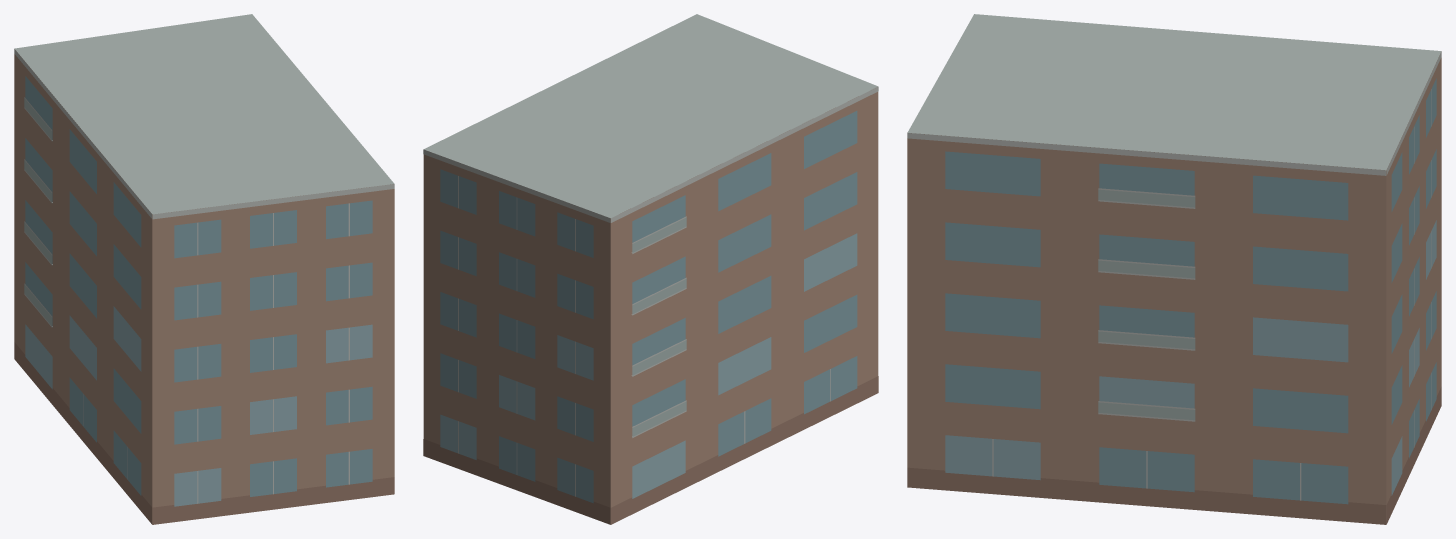
The model's file is survey-upis-32869218.glb.
The picture shows the model from 3 angles, left to right: view 1: azimuth 30°, elevation 25°; view 2: azimuth 150°, elevation 25°; view 3: azimuth 270°, elevation 25°; orthographic projection. The views are drawn at different scales.
Visible parts, largest first — view 1: survey-upis-32869218.tmp; view 2: survey-upis-32869218.tmp; view 3: survey-upis-32869218.tmp.
Part boxes in pixels (x1,y1,x2,y2): survey-upis-32869218.tmp: (14, 14, 394, 524); survey-upis-32869218.tmp: (423, 14, 878, 524); survey-upis-32869218.tmp: (907, 14, 1441, 524).
Size of the model in its own units: 14.42 by 15.25 by 20.83.
